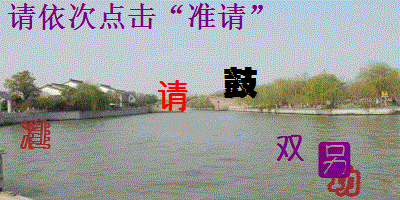text: (222, 65, 259, 99), (317, 141, 351, 178), (327, 164, 361, 198), (19, 118, 52, 151), (157, 78, 189, 112), (274, 134, 306, 162)
